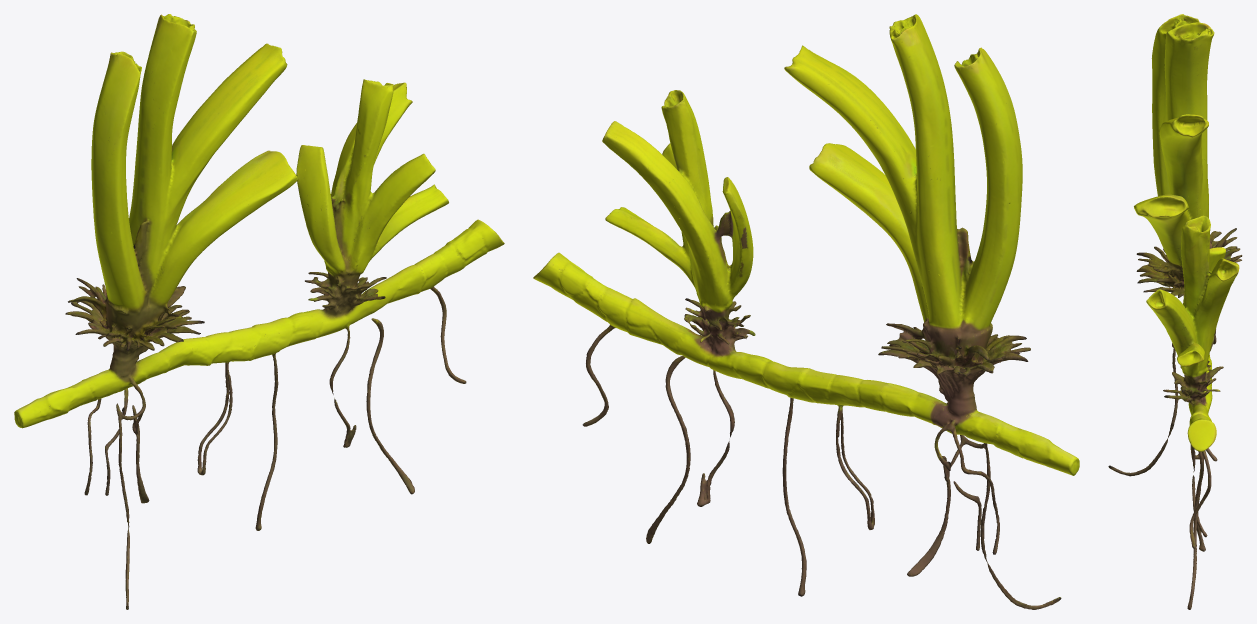
Rendered from thalassia_hemprichii.glb.
The picture shows the model from 3 angles, left to right: view 1: azimuth 30°, elevation 25°; view 2: azimuth 150°, elevation 25°; view 3: azimuth 270°, elevation 25°; orthographic projection. The views are drawn at different scales.
Size of the model in its own units: 1.9 by 2 by 0.4995.
Materials: 1 (1 with a texture image).
